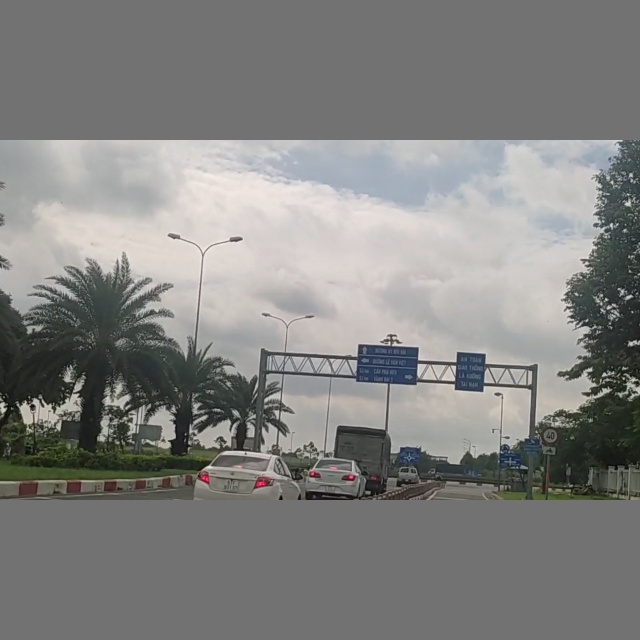P.127*40: (541, 428, 558, 444)
S.505a*Xe may: (541, 444, 556, 455)
